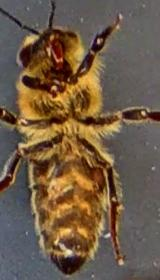varroa_mite: (84, 161, 108, 191)
